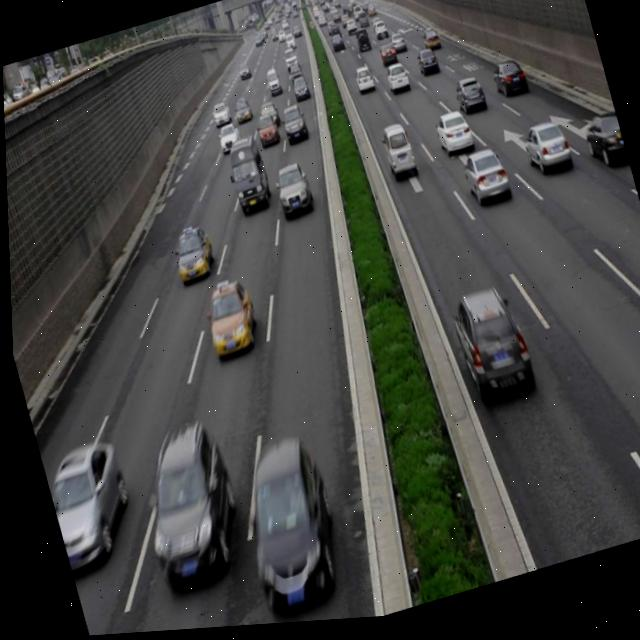car: (221, 434, 348, 620), (120, 419, 247, 595), (37, 435, 138, 574), (443, 284, 531, 407), (196, 278, 259, 362), (516, 121, 571, 184), (456, 149, 508, 213), (165, 225, 216, 287), (578, 114, 627, 177), (268, 163, 313, 224), (429, 111, 472, 164), (488, 60, 527, 107), (449, 78, 485, 123), (278, 105, 309, 150), (252, 113, 281, 152), (212, 122, 241, 159), (380, 64, 409, 99), (413, 50, 439, 83), (253, 103, 279, 133), (207, 100, 232, 130), (351, 66, 374, 98), (230, 99, 252, 126)
truck: (219, 135, 272, 220), (377, 125, 416, 185)
